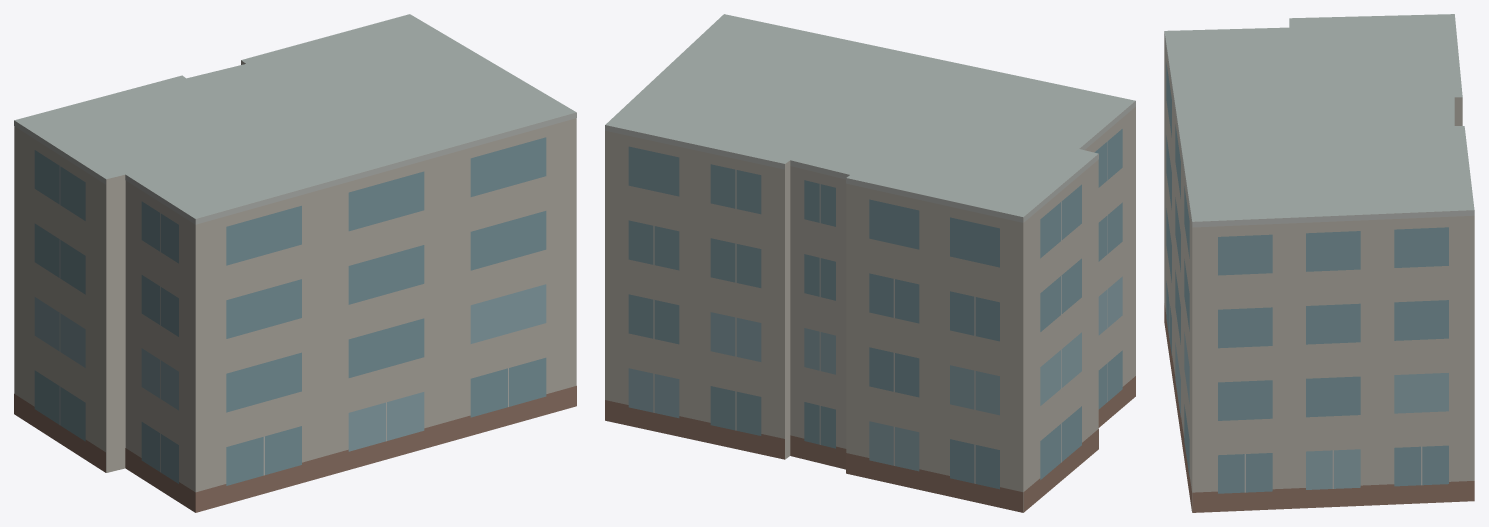
Rendered from survey-upis-32563001.glb.
The picture shows the model from 3 angles, left to right: view 1: azimuth 30°, elevation 25°; view 2: azimuth 150°, elevation 25°; view 3: azimuth 270°, elevation 25°; orthographic projection.
Visible parts, largest first — view 1: survey-upis-32563001.tmp; view 2: survey-upis-32563001.tmp; view 3: survey-upis-32563001.tmp.
Boxes of the visible parts, x1,y1,x2,y2 form: survey-upis-32563001.tmp: (14,14,576,512); survey-upis-32563001.tmp: (605,14,1135,512); survey-upis-32563001.tmp: (1164,14,1474,512).
Bounding box in the file's own units: 19.39 × 12.65 × 12.23.
